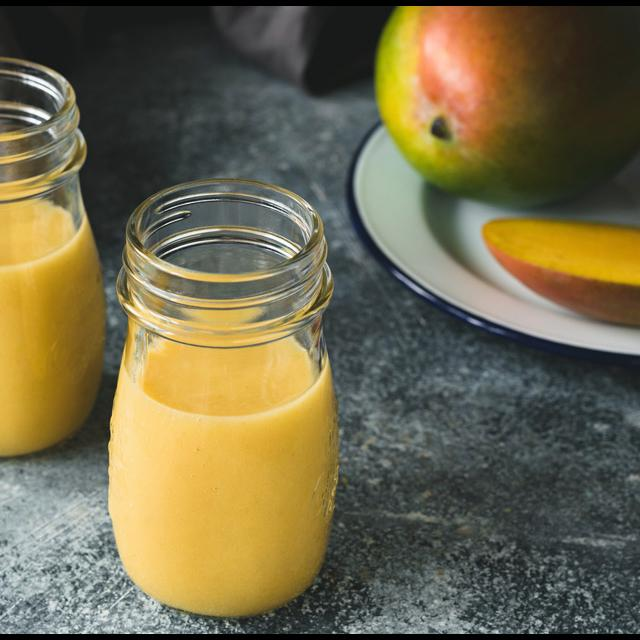mango: (348, 6, 640, 216), (470, 208, 640, 339)
